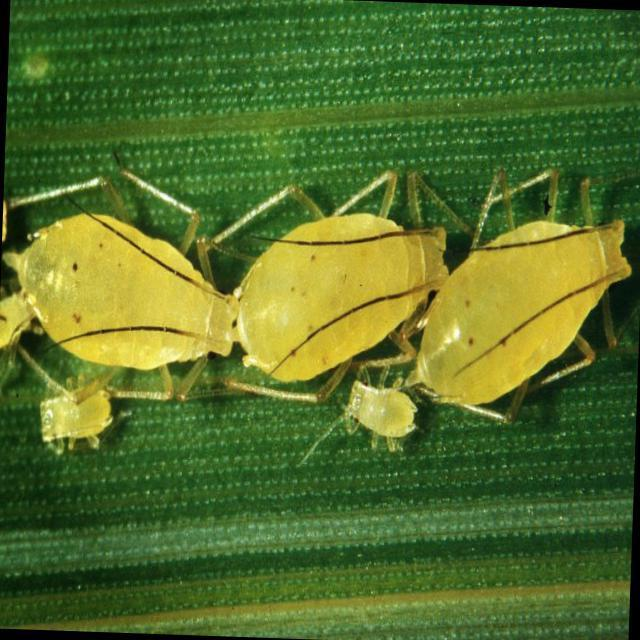aphid: (410, 167, 632, 456), (19, 178, 254, 430), (218, 185, 446, 430), (34, 362, 122, 466), (338, 362, 428, 459)
